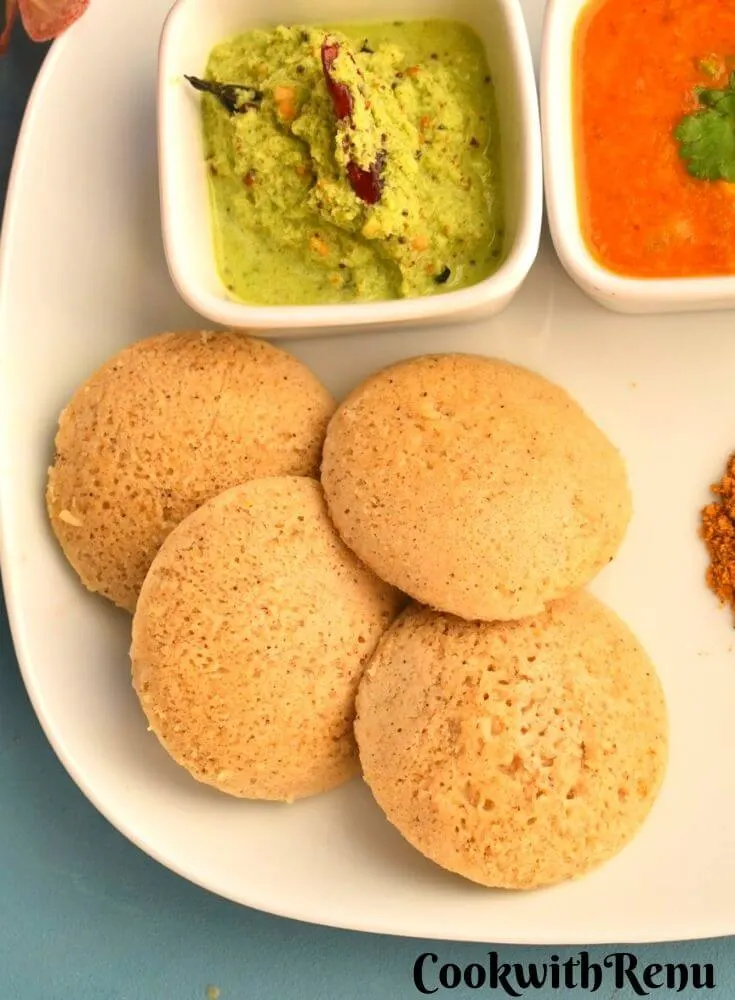chutney: (211, 38, 458, 269)
idli: (128, 476, 440, 808), (351, 580, 678, 893), (54, 330, 360, 625), (321, 352, 642, 628)
